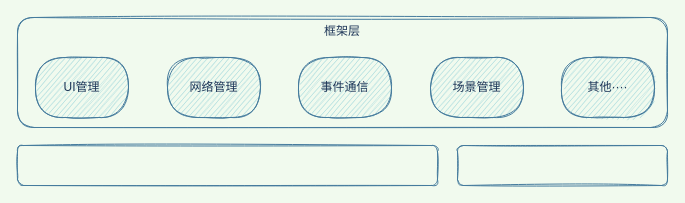
Image size: 685x203. Some labels were removed from this diagram. The centre of each missing label's shape, as x and y in pixels:
基于引擎的扩展: point 562,165
框架和引擎的对接层: point 227,165
